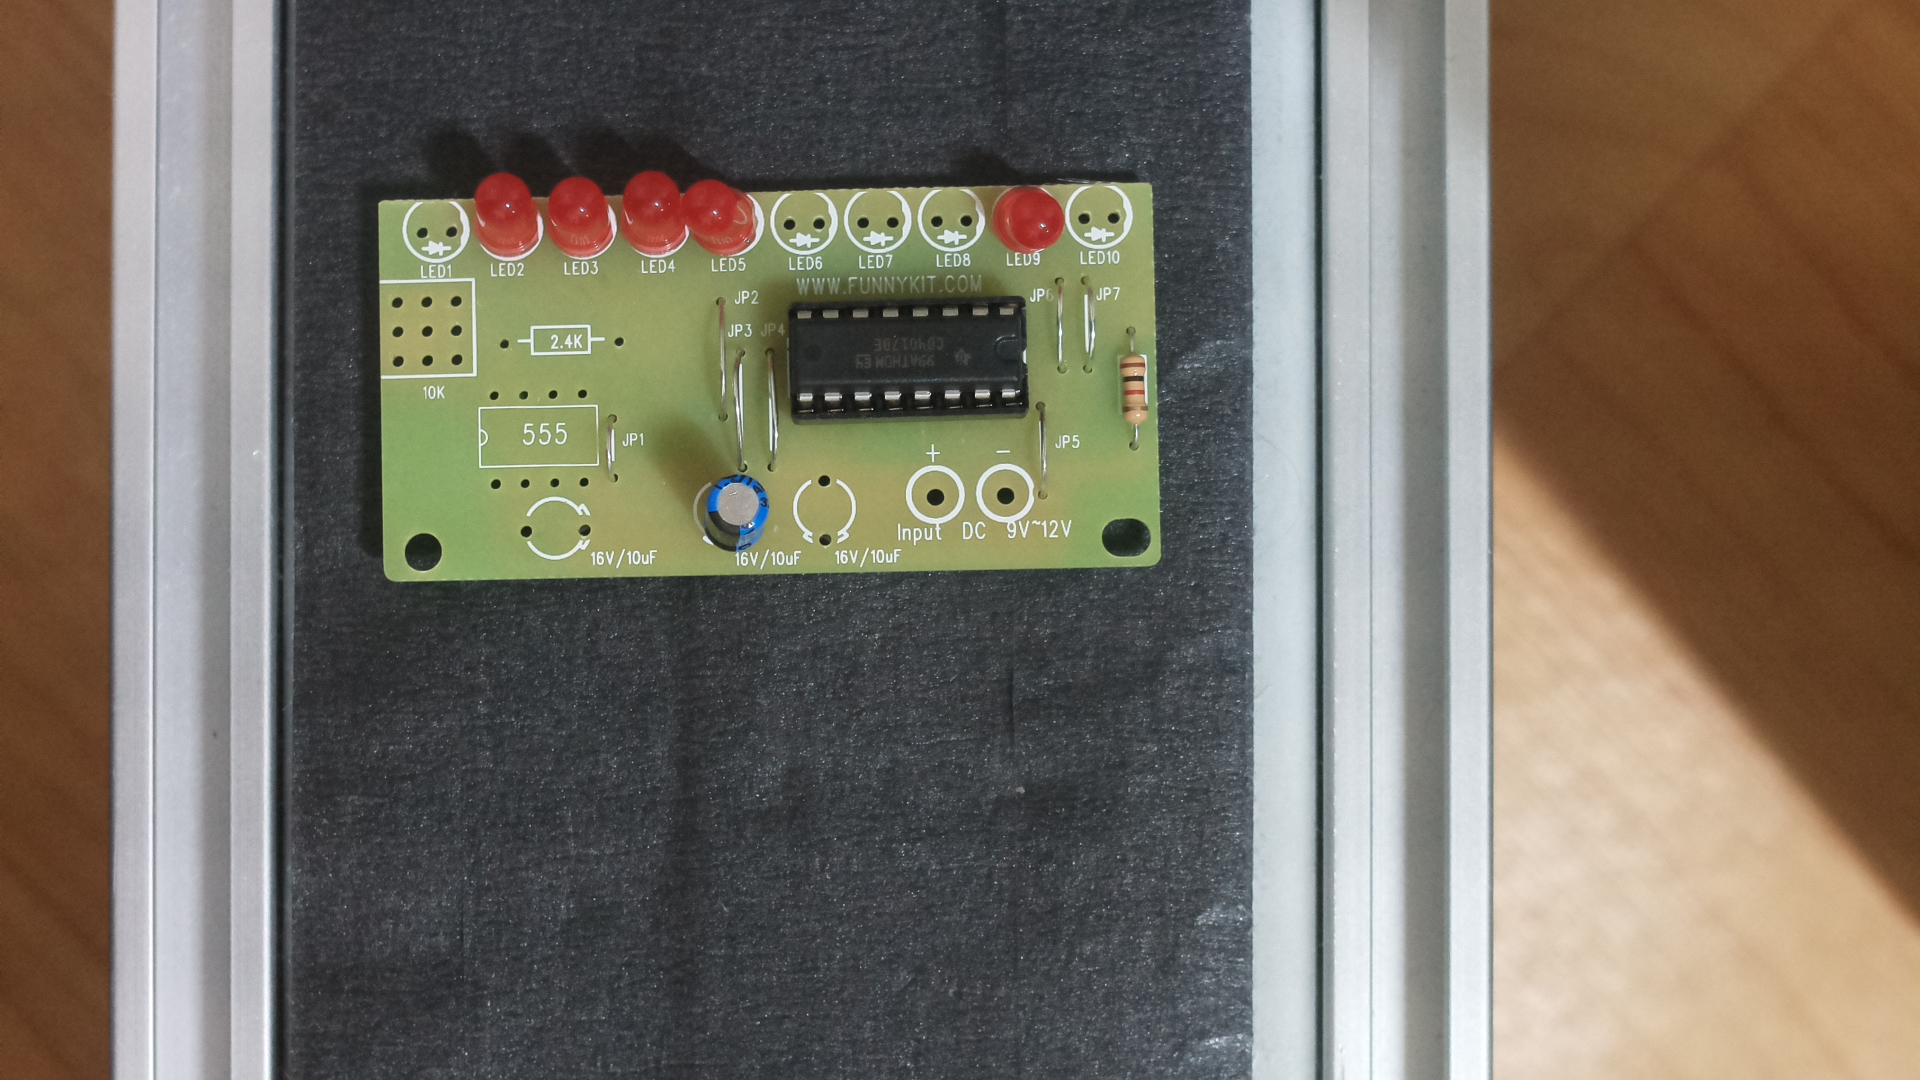B_Missing_part: (360, 154, 1191, 593)
